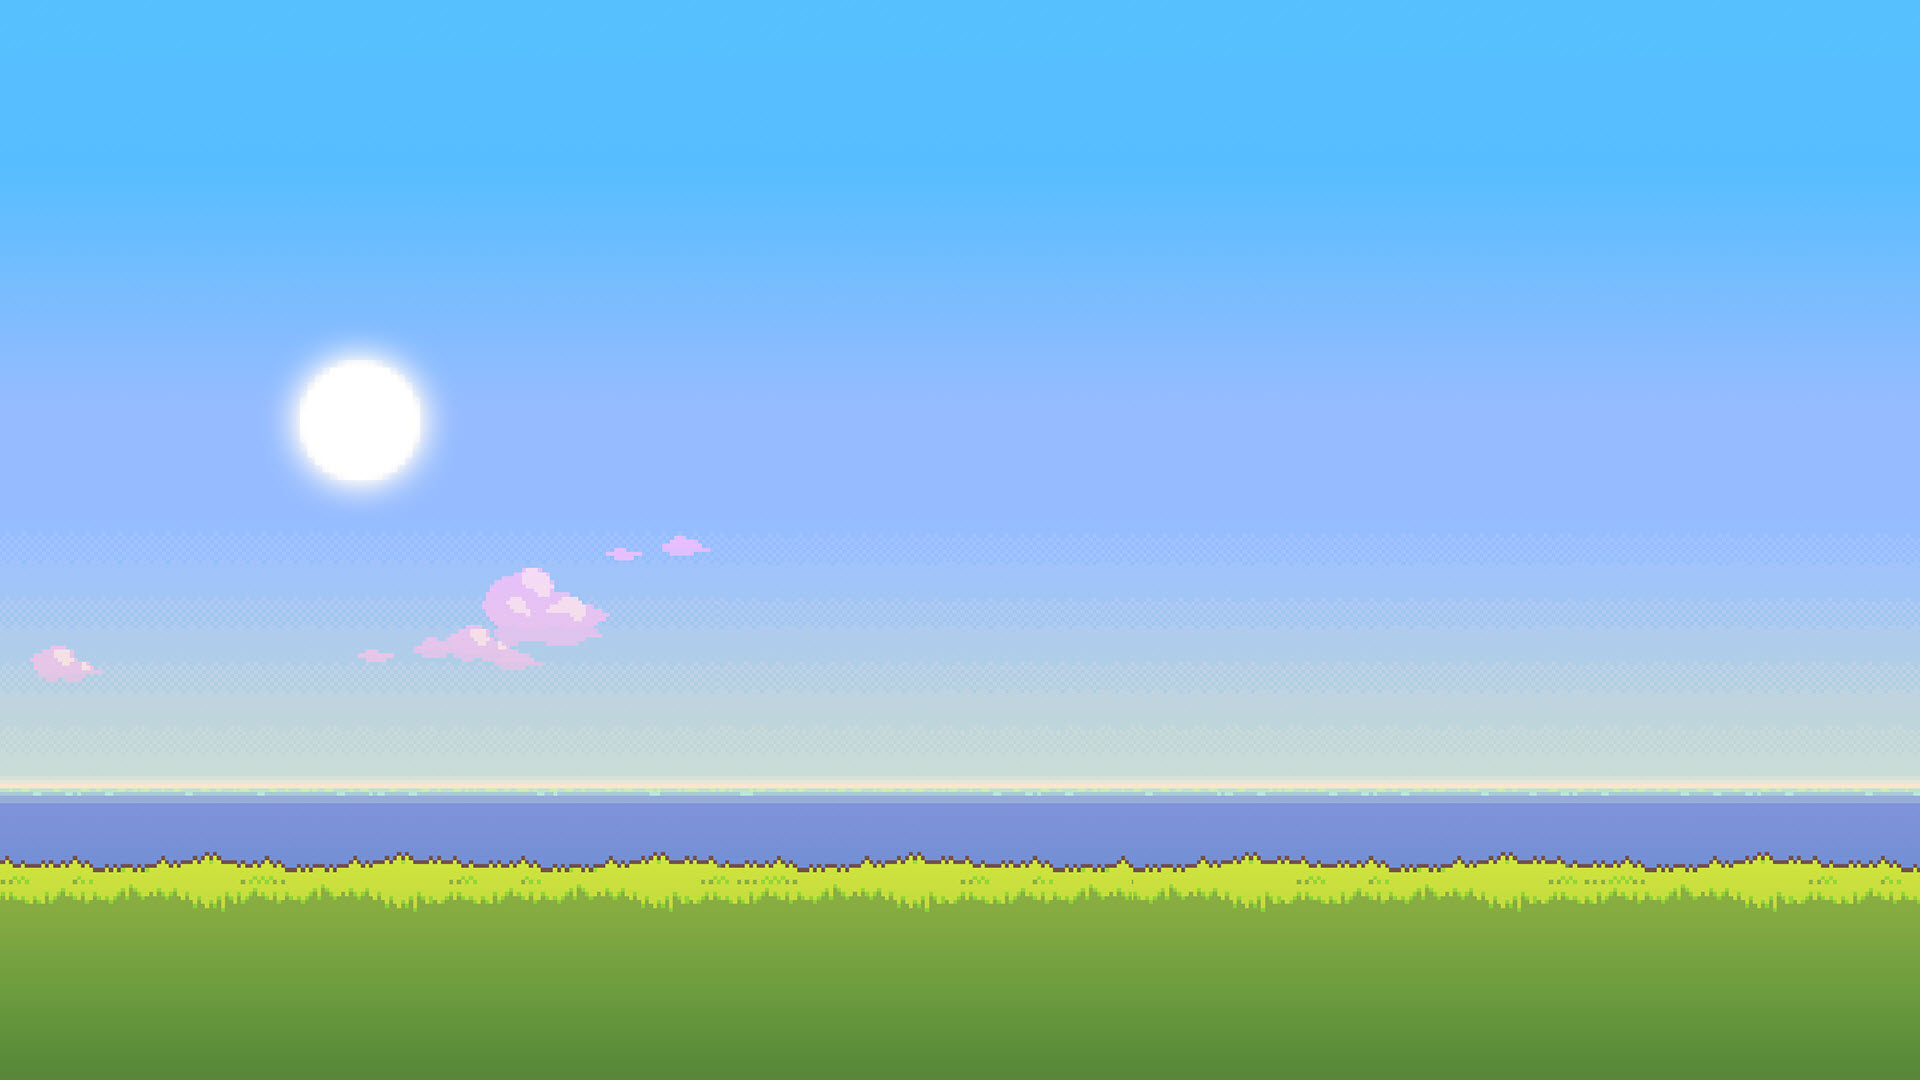beemonster: (629, 229, 667, 273), (804, 402, 843, 444)
character: (837, 771, 907, 843)
door: (1598, 277, 1687, 338)
flymonster: (1361, 380, 1399, 423), (61, 393, 99, 436), (654, 411, 692, 454)
ground: (16, 680, 247, 858), (1681, 679, 1911, 857)
ground_empty: (1, 866, 1920, 1080)
ground_grass: (688, 291, 1114, 345), (113, 456, 541, 504), (1025, 622, 1516, 659), (1432, 422, 1855, 460), (1294, 200, 1718, 237), (526, 661, 825, 700)
health_buff: (956, 240, 994, 284), (1477, 324, 1503, 349)
littlemonster: (858, 236, 895, 281), (1048, 558, 1083, 593), (794, 597, 829, 632), (492, 392, 527, 426), (1457, 547, 1491, 582)
monster: (707, 537, 745, 576), (1698, 615, 1733, 650), (1753, 307, 1785, 342), (153, 306, 185, 342), (1189, 530, 1221, 564), (47, 625, 79, 659)
smallmonster: (1360, 524, 1394, 559), (1585, 136, 1619, 171), (1357, 135, 1393, 169), (433, 303, 464, 338)
window: (1, 264, 597, 1080)
